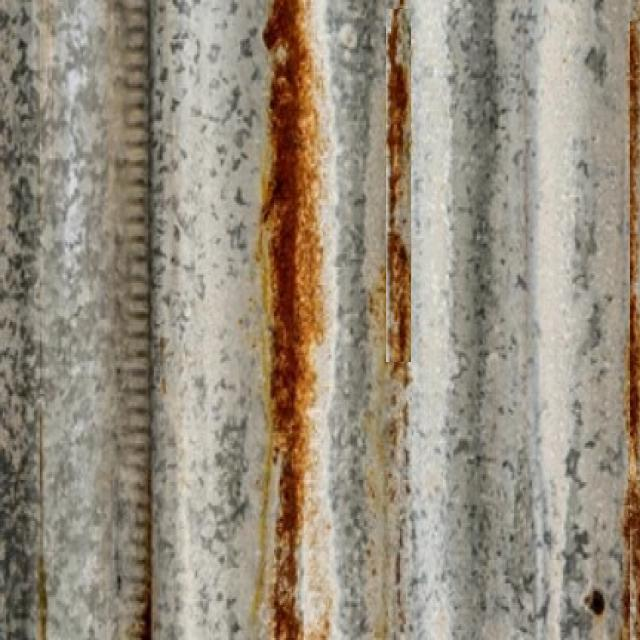Corrosion: (263, 0, 321, 640), (387, 0, 412, 365), (626, 9, 640, 632)
